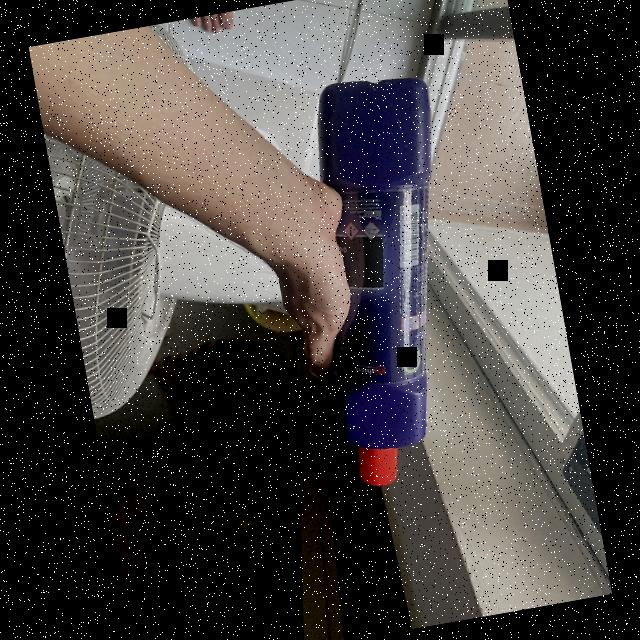chemical_plastic_bottle: (276, 67, 496, 496)
